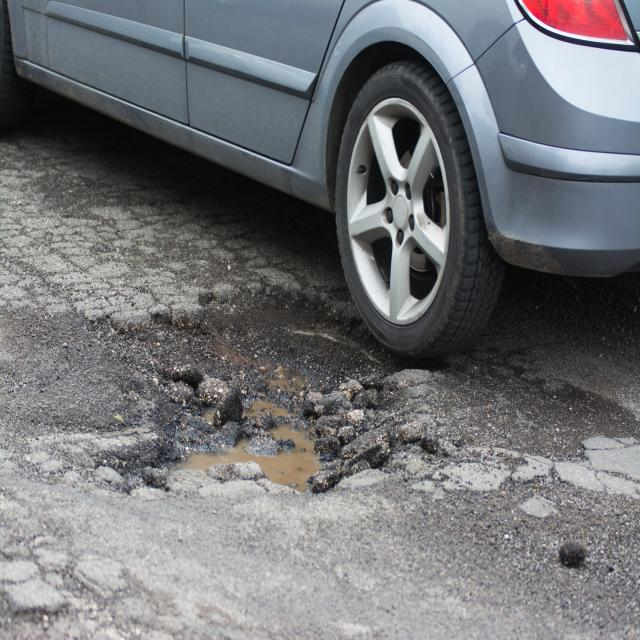Pothole: (121, 336, 423, 494)
